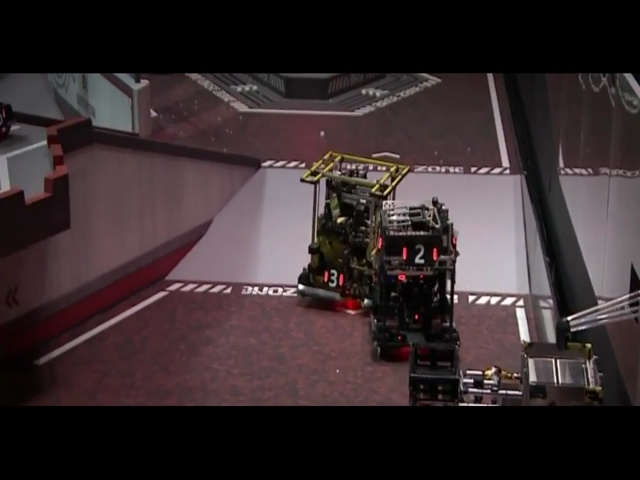bluePlate: (187, 204, 227, 229), (293, 312, 320, 341), (141, 287, 168, 315), (321, 196, 343, 224)
redPlate: (218, 286, 279, 321), (387, 222, 414, 246), (190, 286, 206, 312)
